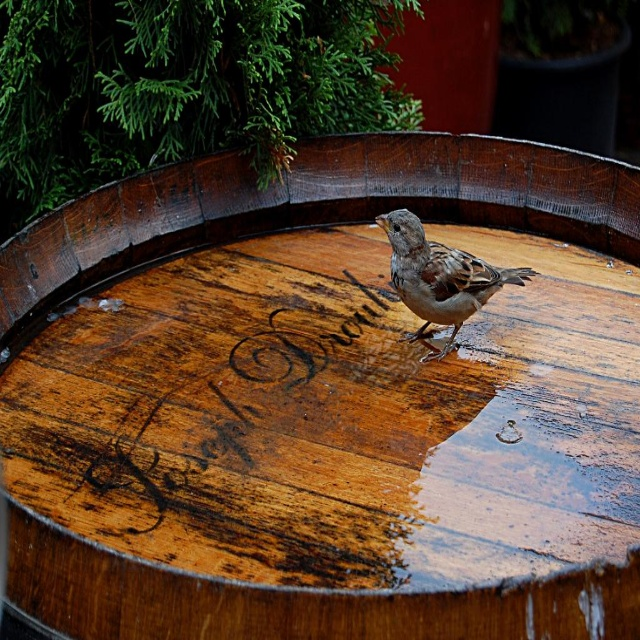Sparrow: (376, 209, 538, 361)
